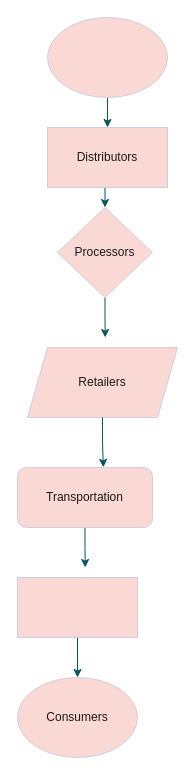
This 195x775 diagram has some shape labels left out. The shapes that lost their labels are listed below. From the top down, each one's box as (x1, y1, x2, y2) in pixels, then its label:
(46, 16, 168, 98): Farmer Harvest
(16, 576, 138, 638): Packaging
